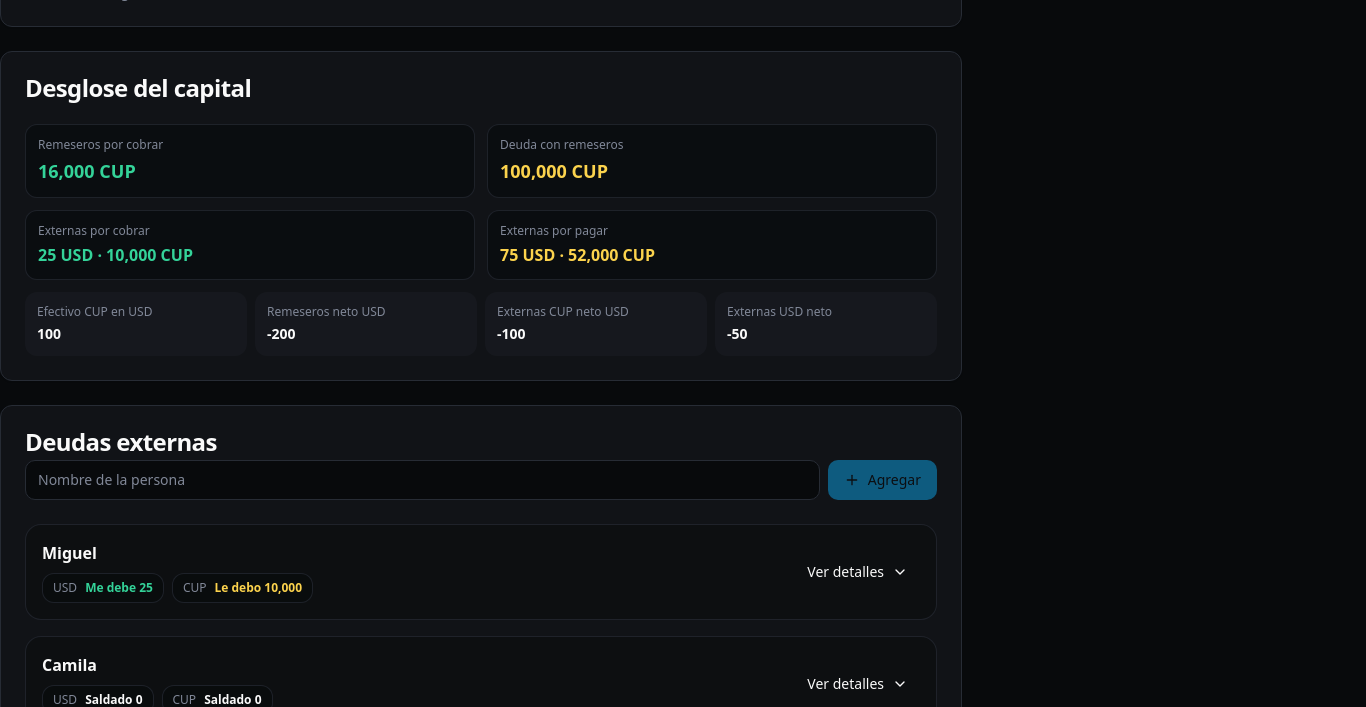
Test: FinancesView › keeps external debt cards collapsed and expands them independently
The width and height of the screenshot is (1366, 707).
(page scrolled)
Check: the button "Registrar movimiento" is not shown
Step 1. Click the button with aria-label "Ver detalles de Miguel" → (858, 572), box [795,554,920,590]
(page scrolled)
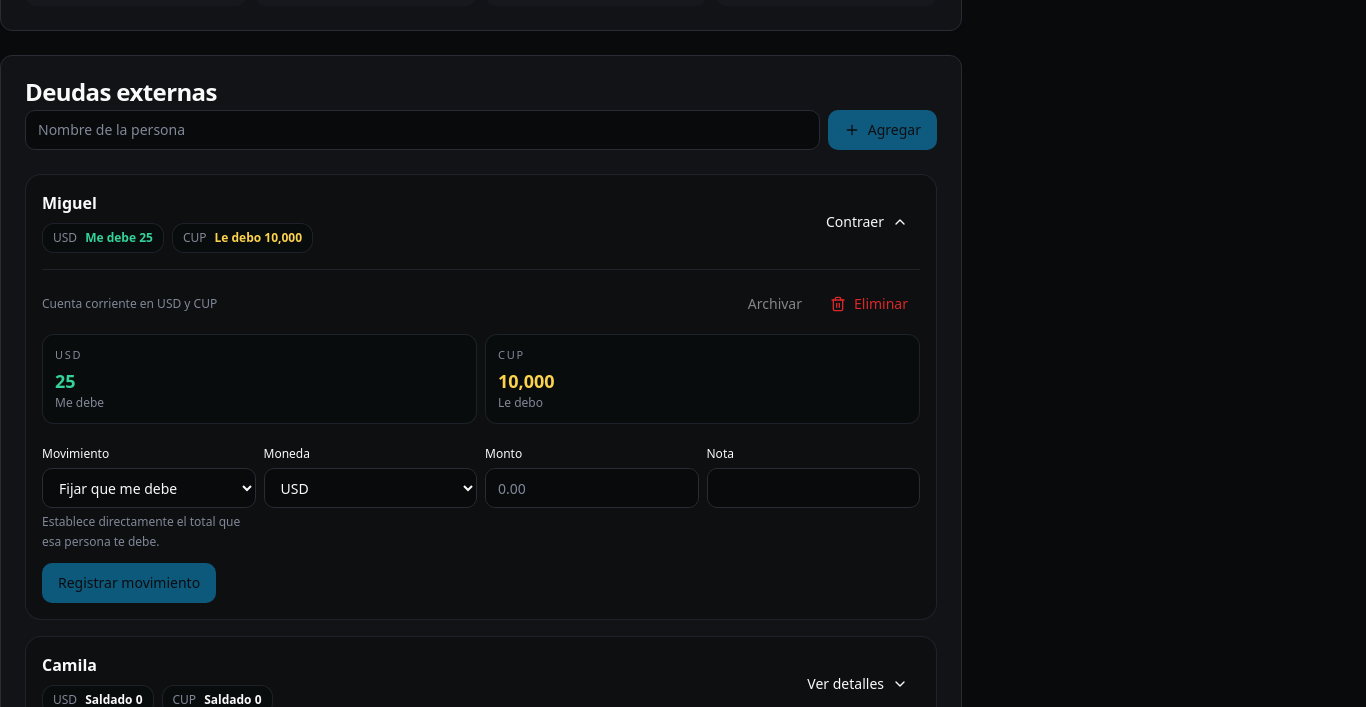
Check: the button "Registrar movimiento" is shown, box [42,563,216,603]
Check: the text "Establece directamente el total que esa persona te debe." is shown, box [42,512,256,551]
Step 2. Type "10000.5" into the field labelled "Monto" → (592, 488), box [485,468,698,508]
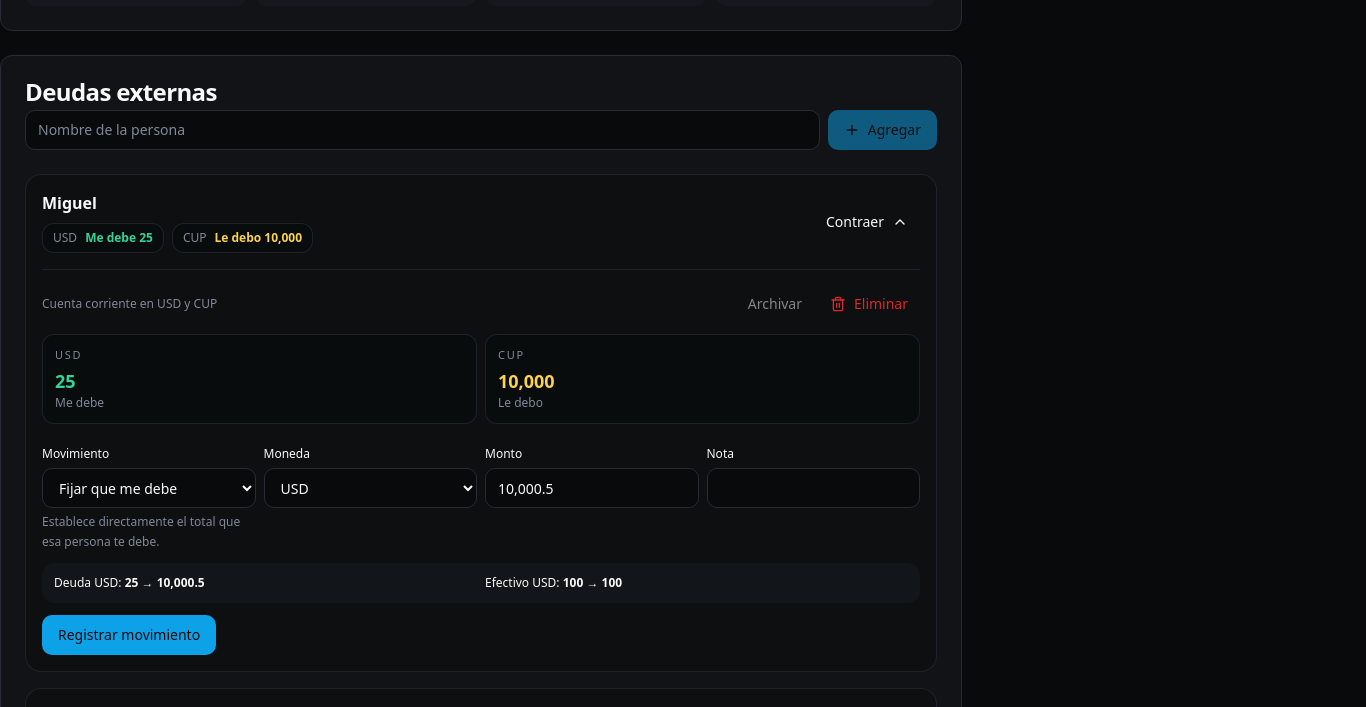
Check: the field labelled "Monto" holds "10,000.5", box [485,468,698,508]
Step 3. Select "Fijar que le debo" in the dropdown labelled "Movimiento" → (149, 488), box [42,468,256,508]
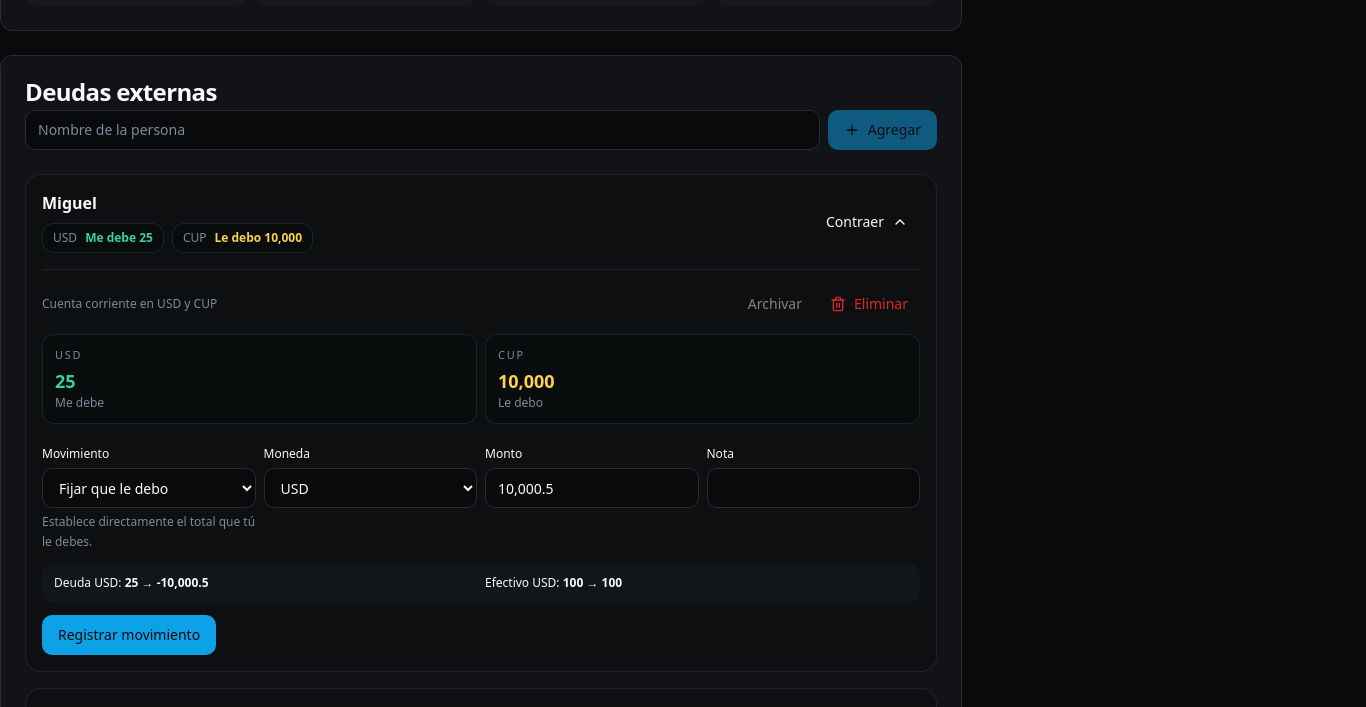
Check: the button with aria-label "Contraer detalles de Miguel" is expanded
Check: the text "Establece directamente el total que tú le debes." is shown, box [42,512,256,551]
Step 4. Click the button with aria-label "Contraer detalles de Miguel" → (867, 222), box [814,204,920,240]
(page scrolled)
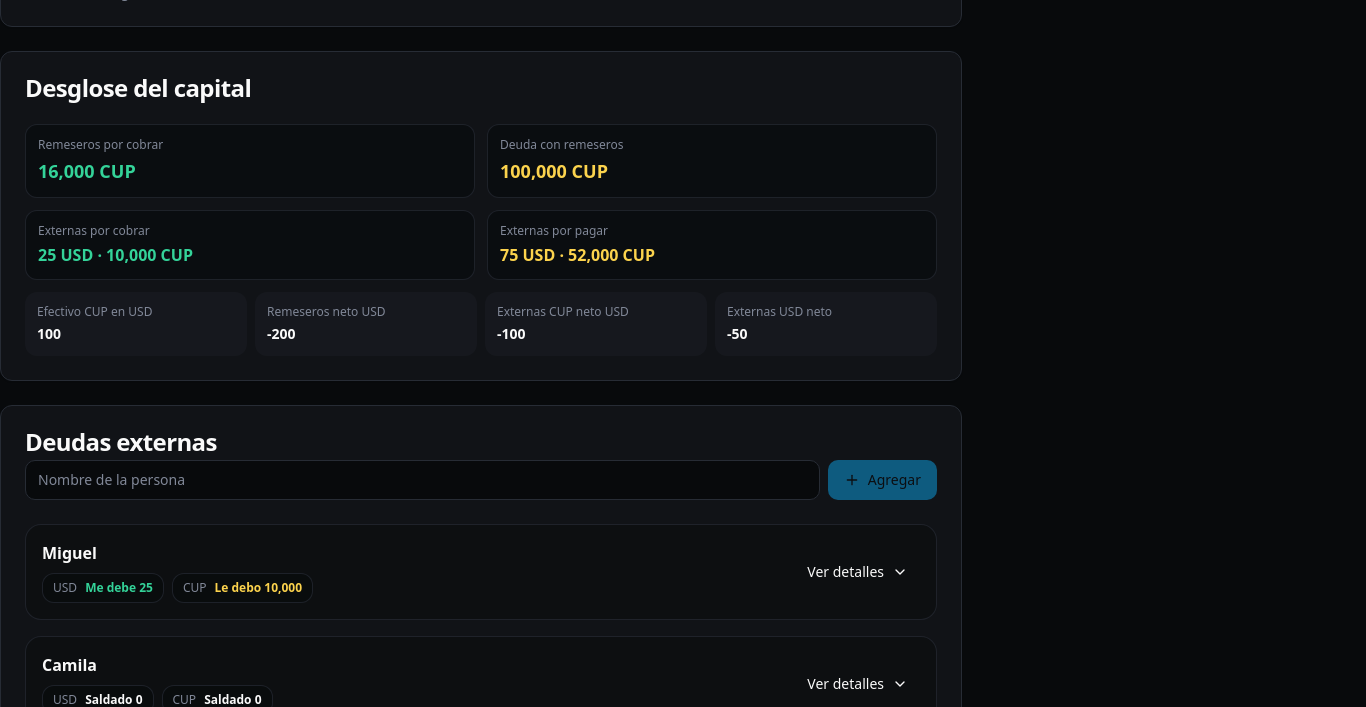
Check: the button "Registrar movimiento" is gone
